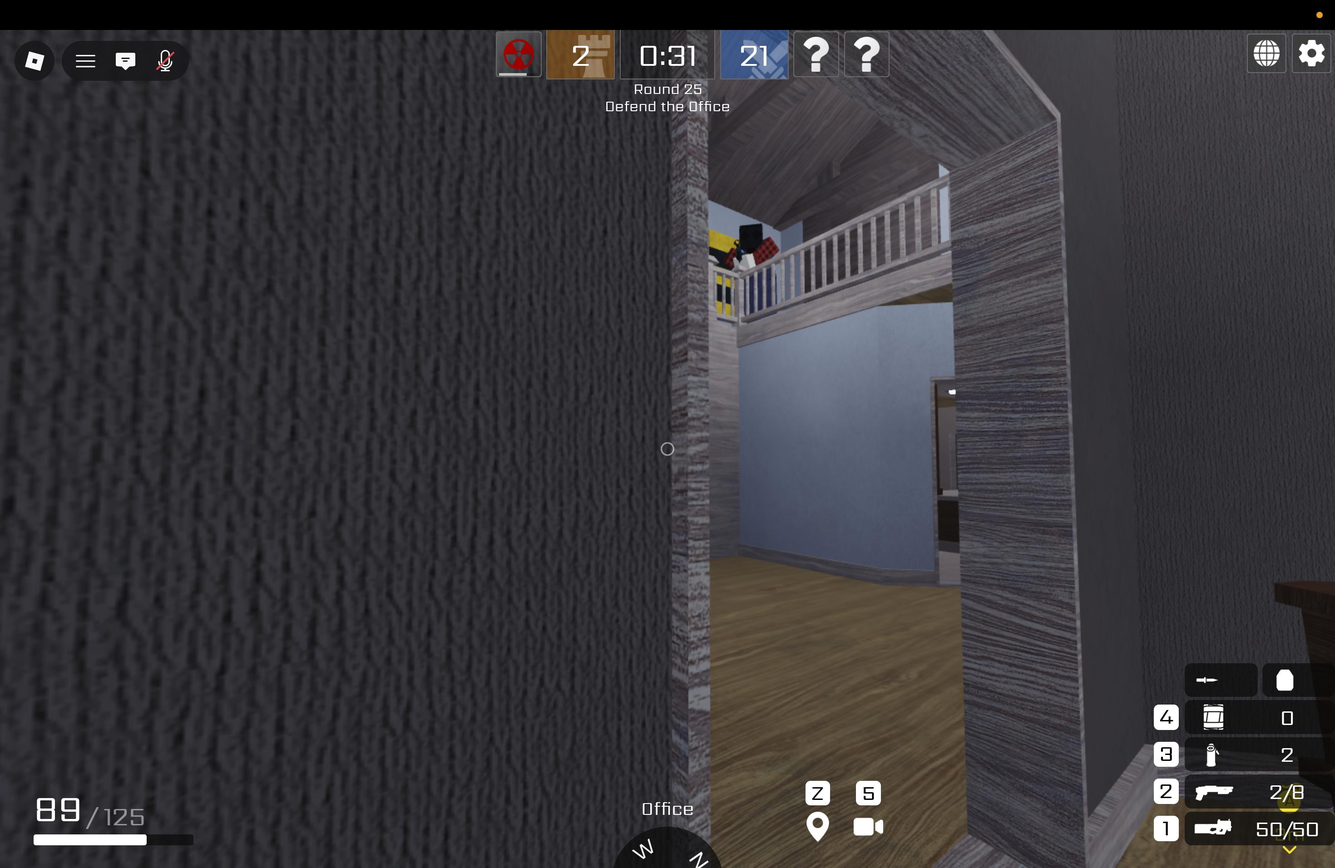enemy: (719, 223, 789, 319)
